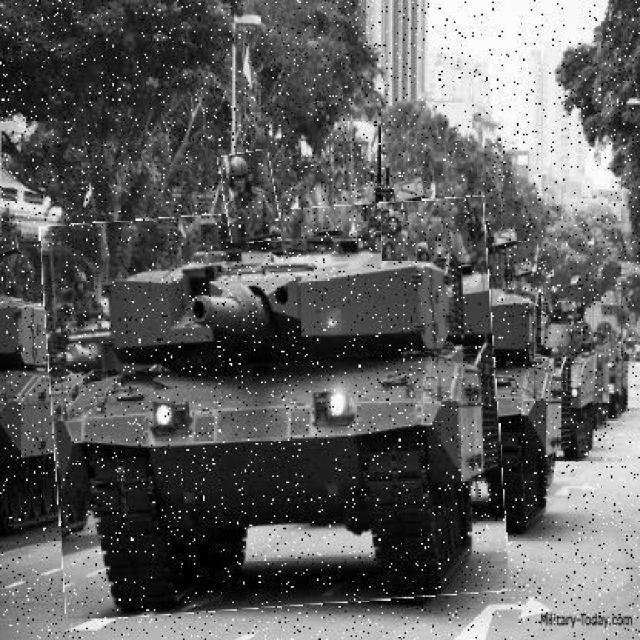Person: (223, 152, 280, 244), (383, 210, 410, 263)
Tank: (47, 204, 504, 615)
